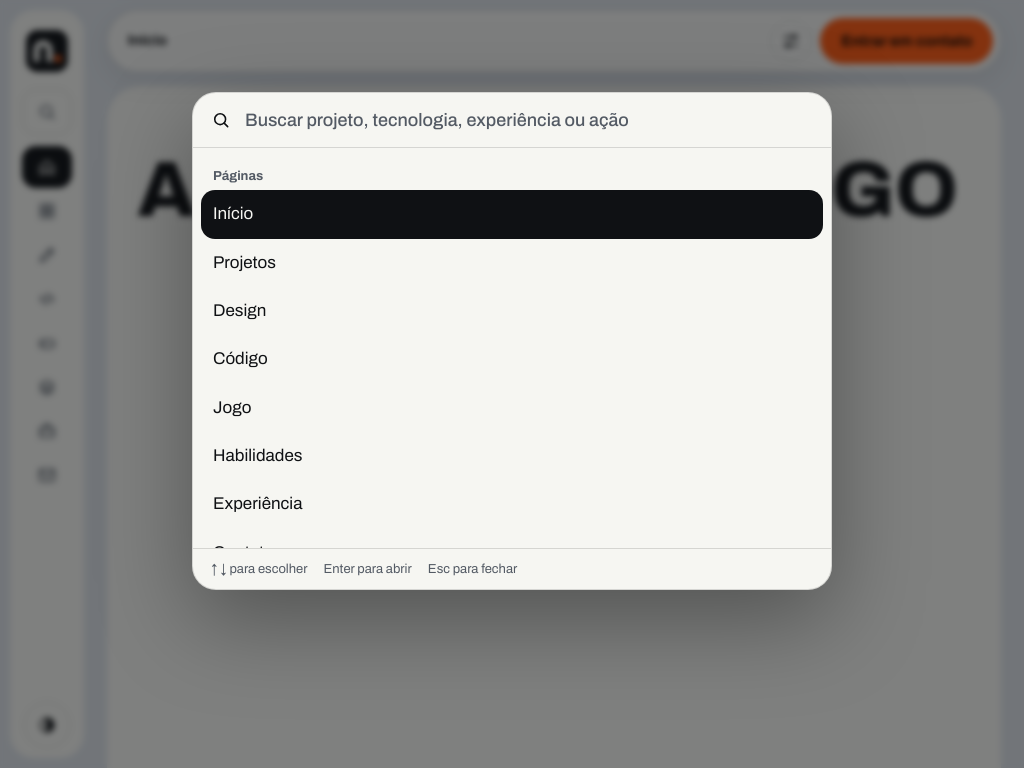
busca (Ctrl K) › estado vazio sugere buscas, anuncia nenhum resultado e fecha com Esc
Earlier steps of the test are not shown.
Later steps or results of the test are not shown.
Type "zzzz" into the dropdown. click: x=528, y=120
box: x1=243 y1=109 x2=813 y2=131
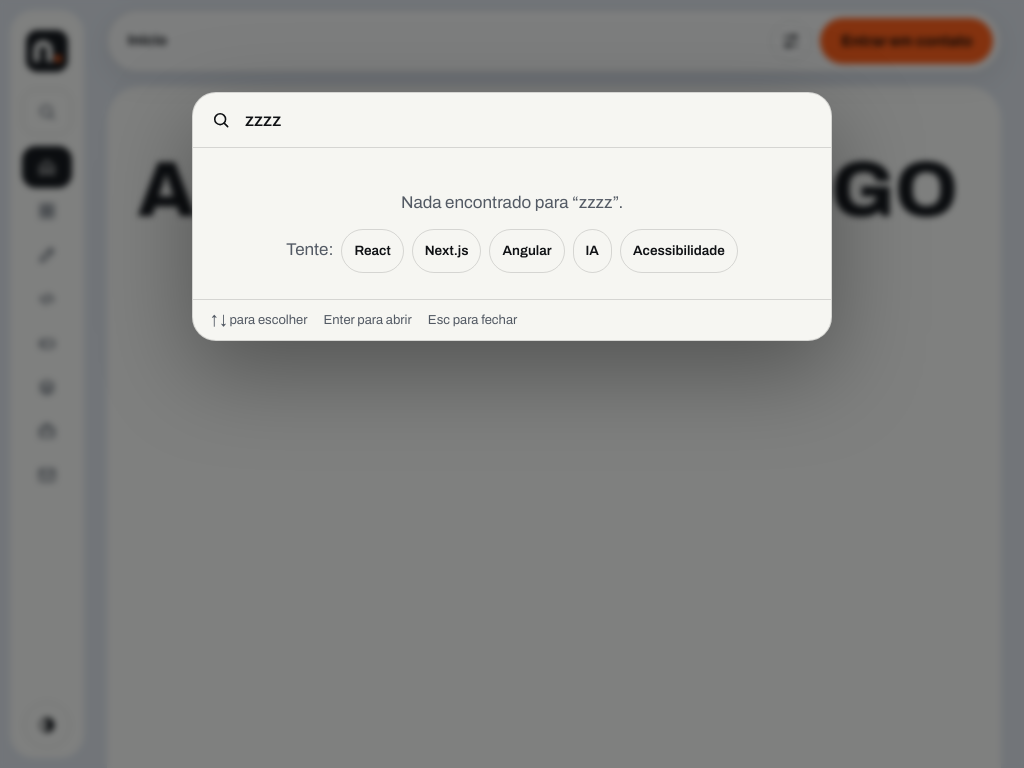
Expected: the text "Nada encontrado para “zzzz”." is shown, x1=401 y1=193 x2=623 y2=212
Expected: the dropdown is collapsed, x1=243 y1=109 x2=813 y2=131
Click the button "IA". click: x=592, y=250
box: x1=573 y1=228 x2=612 y2=272
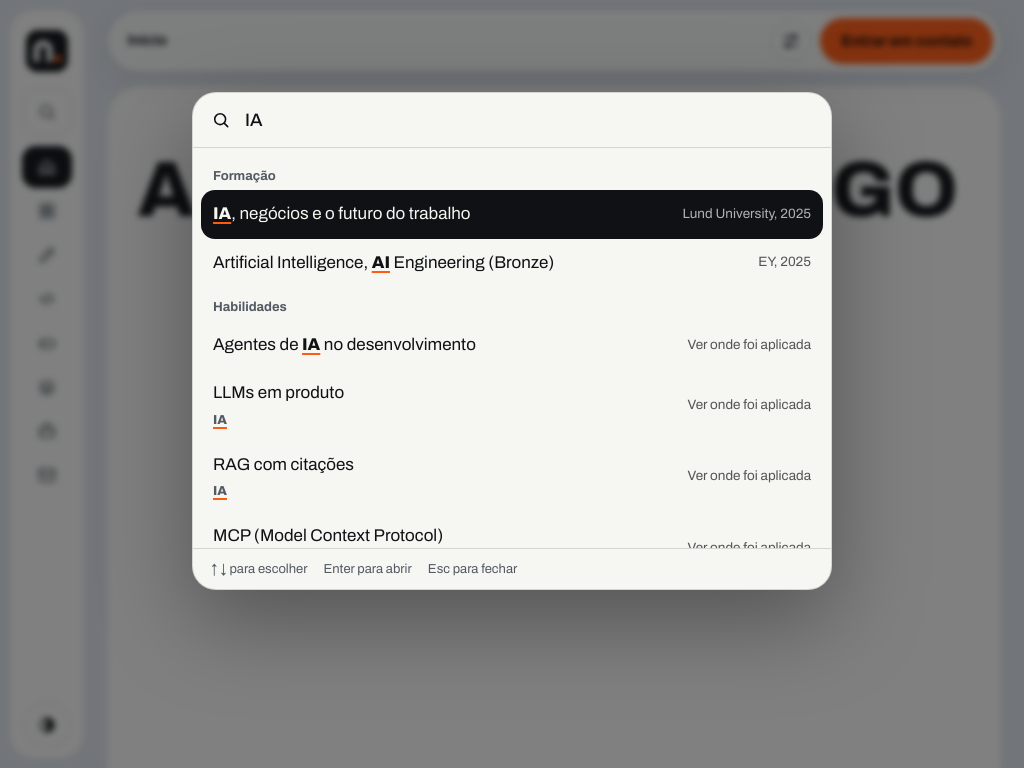
Expected: the dropdown holds "IA", x1=243 y1=109 x2=813 y2=131
Expected: the option "IA, negócios e o futuro do trabalho Lund University, 2025" is shown, x1=201 y1=190 x2=823 y2=239
